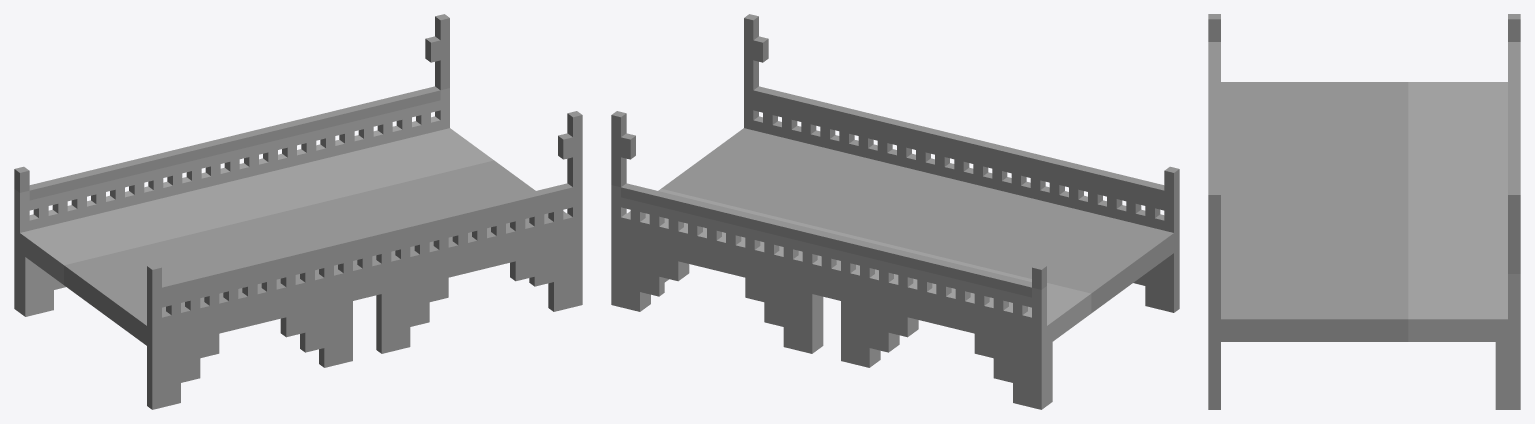
File: church6-18.obj
3 views of the same model, side by side, from view 1: azimuth 30°, elevation 25°; view 2: azimuth 150°, elevation 25°; view 3: azimuth 270°, elevation 25° (orthographic). The views are drawn at different scales.
Visible parts, largest first — view 1: church6-18; view 2: church6-18; view 3: church6-18.
Boxes of the visible parts, box(x1,y1,x2,y2) form: church6-18: box(14, 14, 582, 409); church6-18: box(611, 14, 1179, 409); church6-18: box(1208, 14, 1520, 409).
Size of the model in its own units: 45 by 19 by 25.
1 material, 1 textured.
